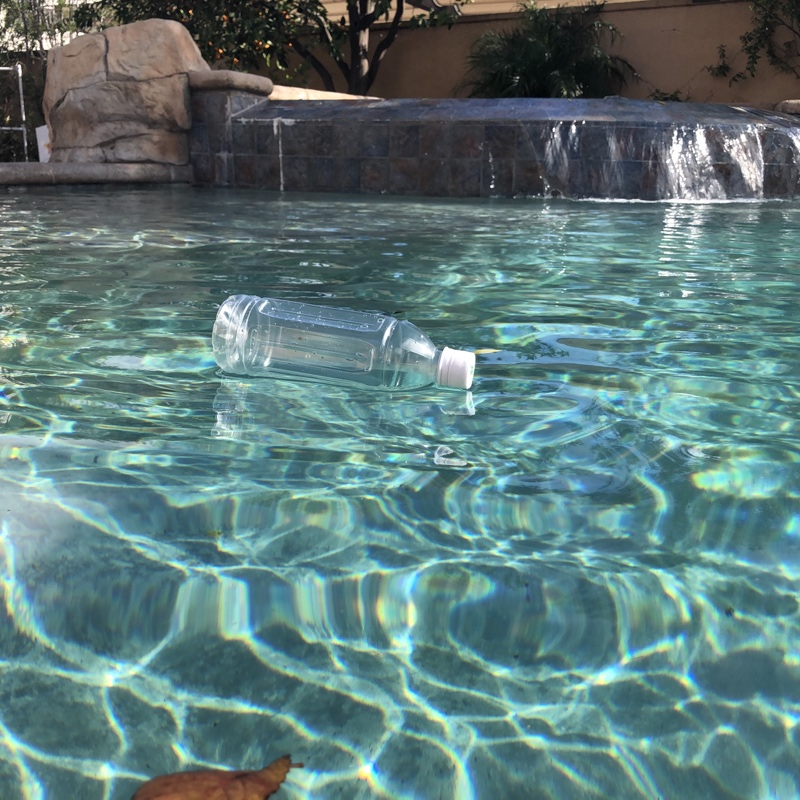Plastic Bottle: (207, 281, 480, 400)
